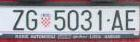-: (106, 19, 110, 22)
0: (67, 10, 79, 31)
1: (97, 10, 103, 31)
3: (81, 10, 92, 31)
5: (54, 10, 65, 31)
A: (112, 10, 123, 30)
E: (125, 10, 136, 30)
G: (26, 10, 37, 30)
Z: (13, 10, 24, 30)
